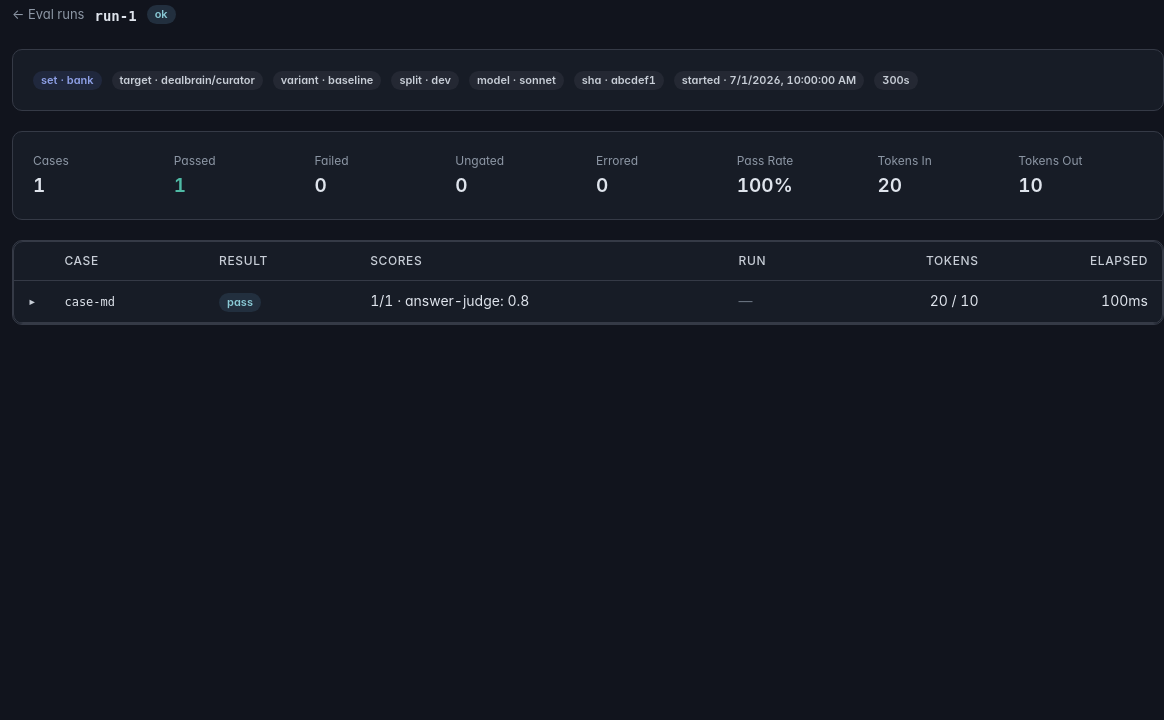
Scenario: EvalRunDetailPage › renders an array-of-lines answer + a score's explanationMdLines as markdown (raw JSON stays reachable)
Click the text "case-md". click: click(90, 302)
box: x1=64 y1=295 x2=115 y2=309
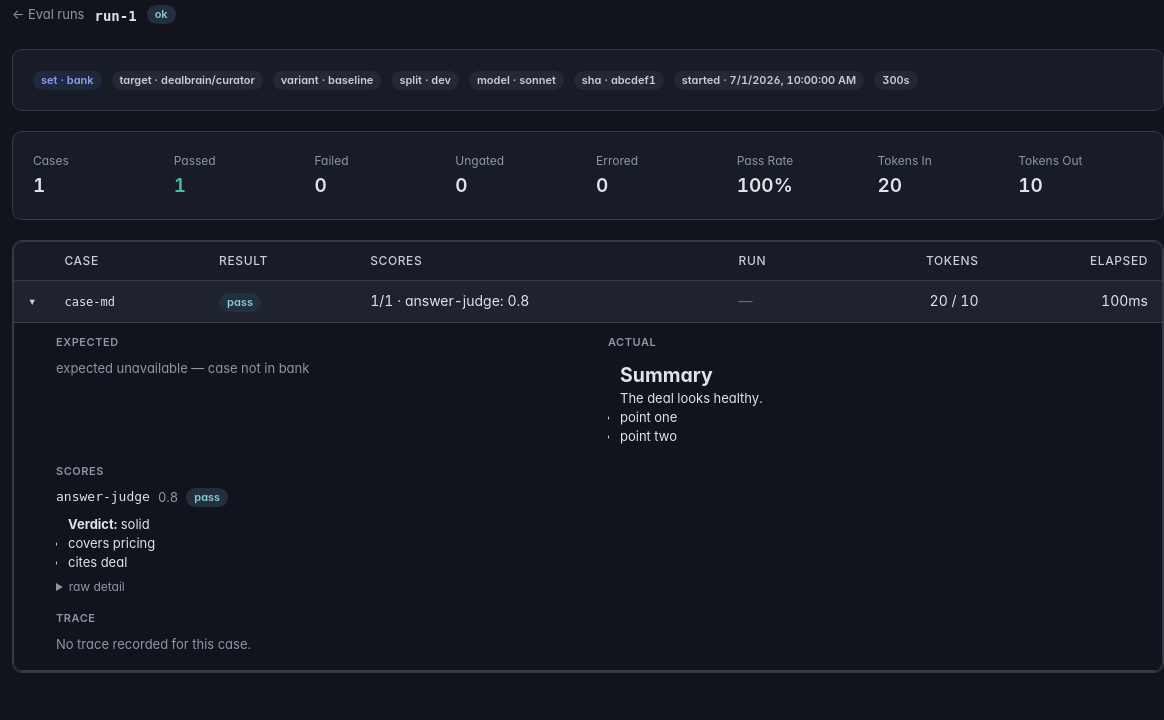
Now the heading "Summary" is shown, box x1=620 y1=363 x2=713 y2=387
Now the list item "point one" is shown, box x1=620 y1=409 x2=677 y2=425
Now the list item "point two" is shown, box x1=620 y1=428 x2=677 y2=444
